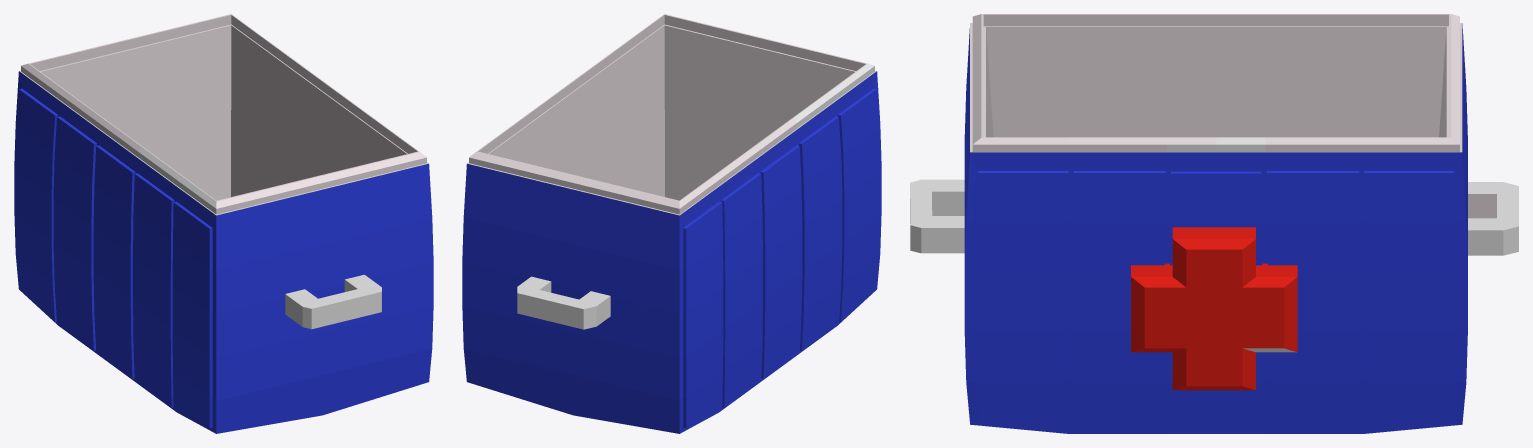
File: Hielera_Model.fbx
3 views of the same model, side by side, from view 1: azimuth 30°, elevation 25°; view 2: azimuth 150°, elevation 25°; view 3: azimuth 270°, elevation 25° (orthographic). The views are drawn at different scales.
Parts seen in each view (by area): view 1: Cube; view 2: Cube; view 3: Cube.
Part boxes in pixels (x1=…): Cube: x1=14, y1=14, x2=433, y2=433; Cube: x1=462, y1=14, x2=881, y2=433; Cube: x1=910, y1=14, x2=1518, y2=433.
Size of the model in its own units: 252 by 228 by 429.
